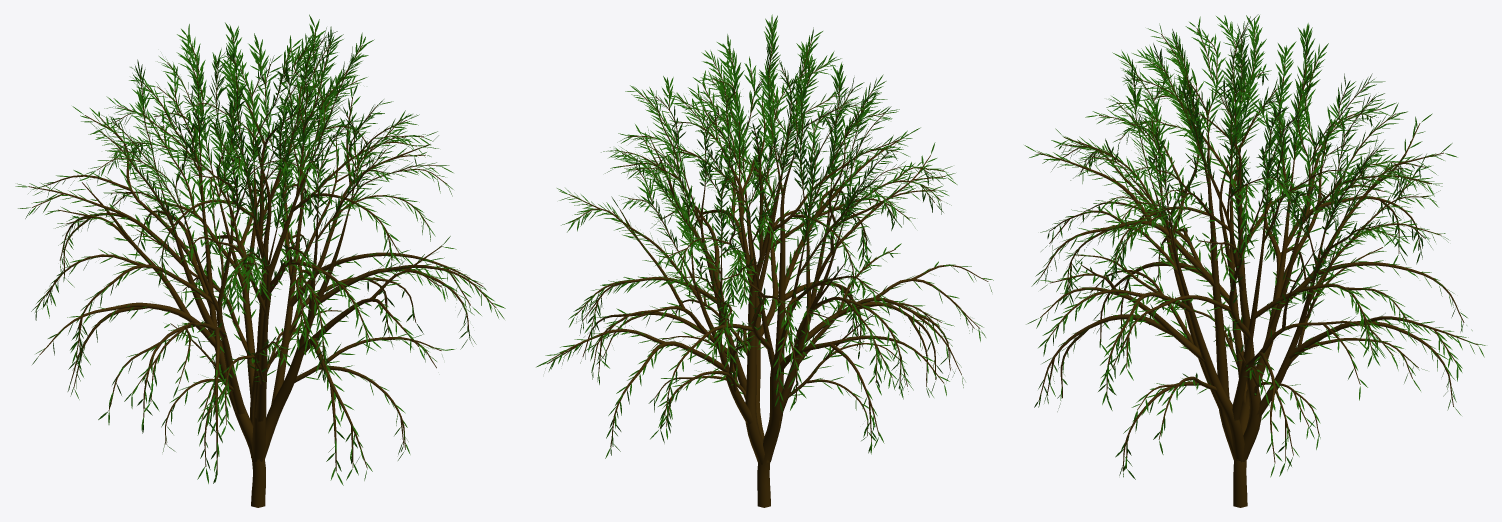
The model's file is willow.fbx.
3 renders of one model, left to right at view 1: azimuth 30°, elevation 25°; view 2: azimuth 150°, elevation 25°; view 3: azimuth 270°, elevation 25°, orthographic. The views are drawn at different scales.
Parts seen in each view (by area): view 1: willow; view 2: willow; view 3: willow.
Part boxes in pixels (x1=…): willow: x1=15, y1=14, x2=505, y2=507; willow: x1=536, y1=14, x2=993, y2=507; willow: x1=1024, y1=14, x2=1485, y2=507.
Bounding box in the file's own units: 179 × 173 × 207.
